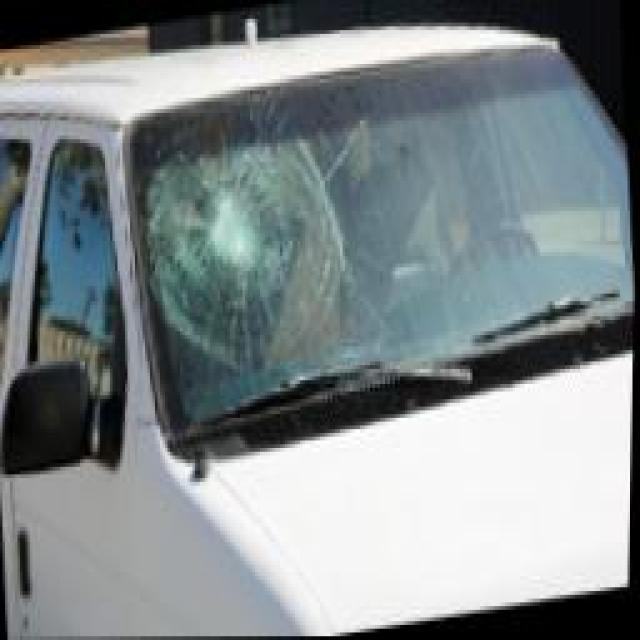Windshield: (150, 49, 636, 437)
